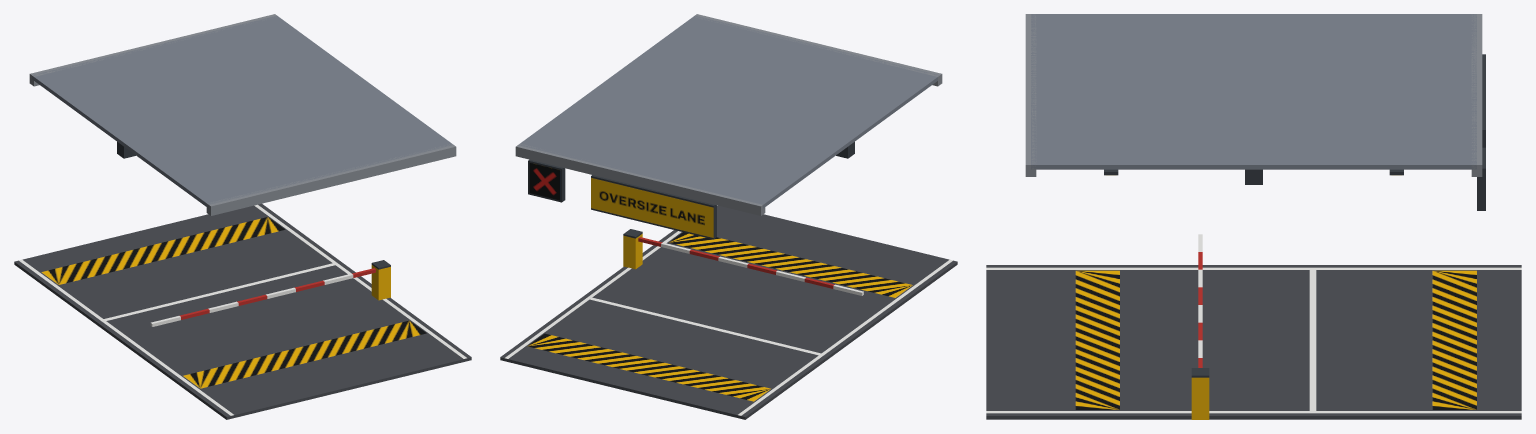
The model's file is gate-lane-oog.glb.
3 views of the same model, side by side, from view 1: azimuth 30°, elevation 25°; view 2: azimuth 150°, elevation 25°; view 3: azimuth 270°, elevation 25° (orthographic). The views are drawn at different scales.
Visible parts, largest first — view 1: pavement, canopy, boom_geo, boom_housing; view 2: canopy, pavement, boom_geo, boom_housing; view 3: pavement, canopy, boom_housing, boom_geo.
Boxes of the visible parts, x1,y1,x2,y2 form: pavement: [14, 203, 471, 419]; canopy: [29, 14, 456, 215]; boom_geo: [150, 268, 375, 326]; boom_housing: [371, 260, 390, 300]; canopy: [515, 14, 942, 239]; pavement: [500, 205, 957, 419]; boom_geo: [638, 237, 863, 295]; boom_housing: [623, 229, 642, 269]; pavement: [986, 265, 1521, 419]; canopy: [1025, 14, 1485, 210]; boom_housing: [1191, 368, 1209, 419]; boom_geo: [1198, 234, 1202, 367].
Size of the model in its own units: 8.02 by 6.3 by 12.
Materials: 1 (1 with a texture image).
